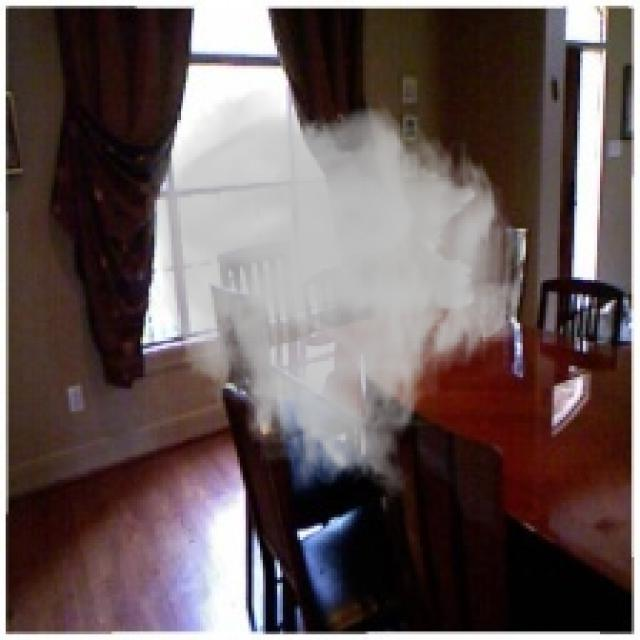smoke: (143, 86, 526, 500)
